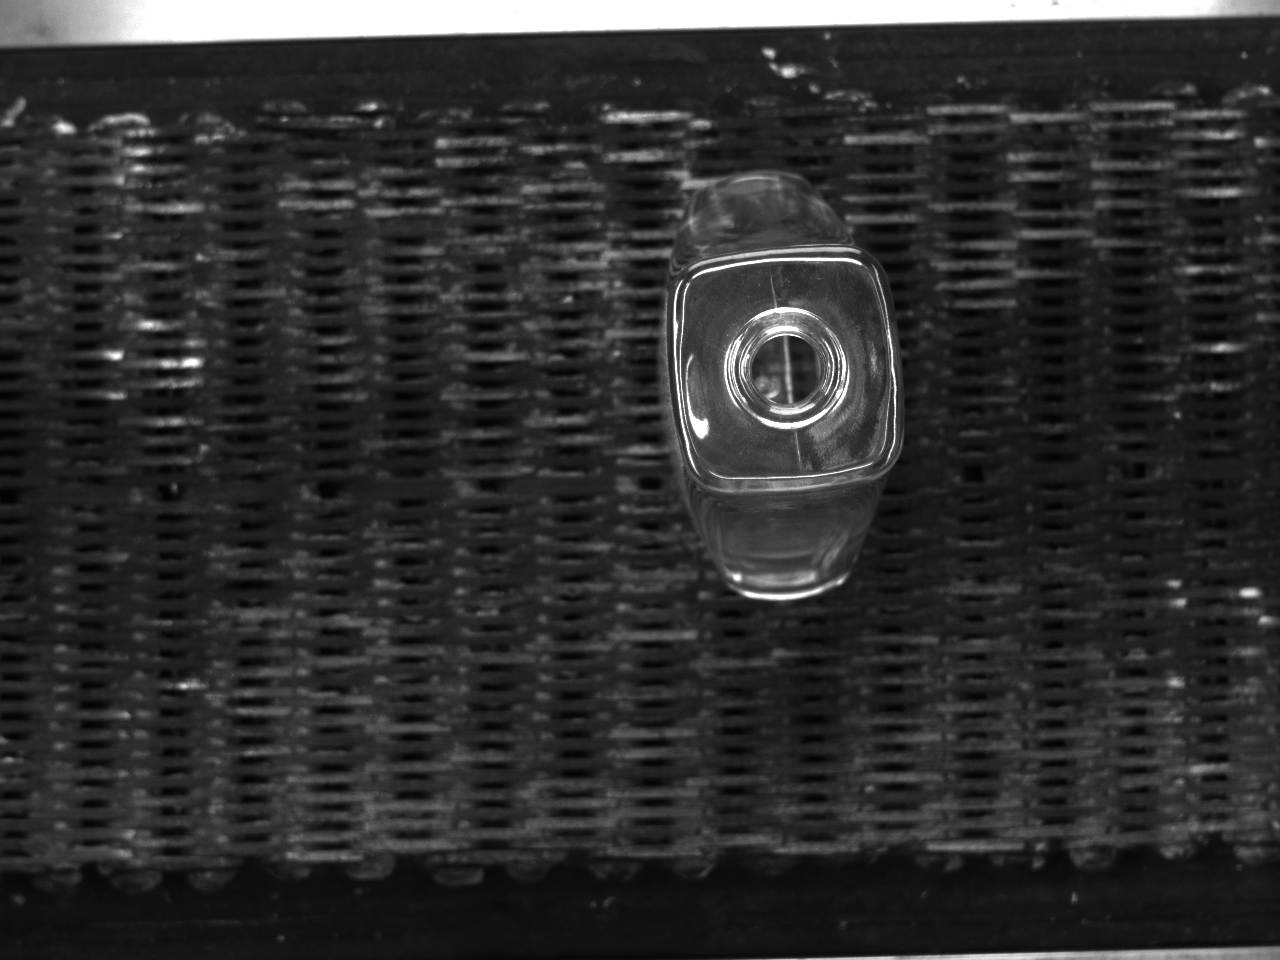bottleneck: (724, 307, 850, 430)
